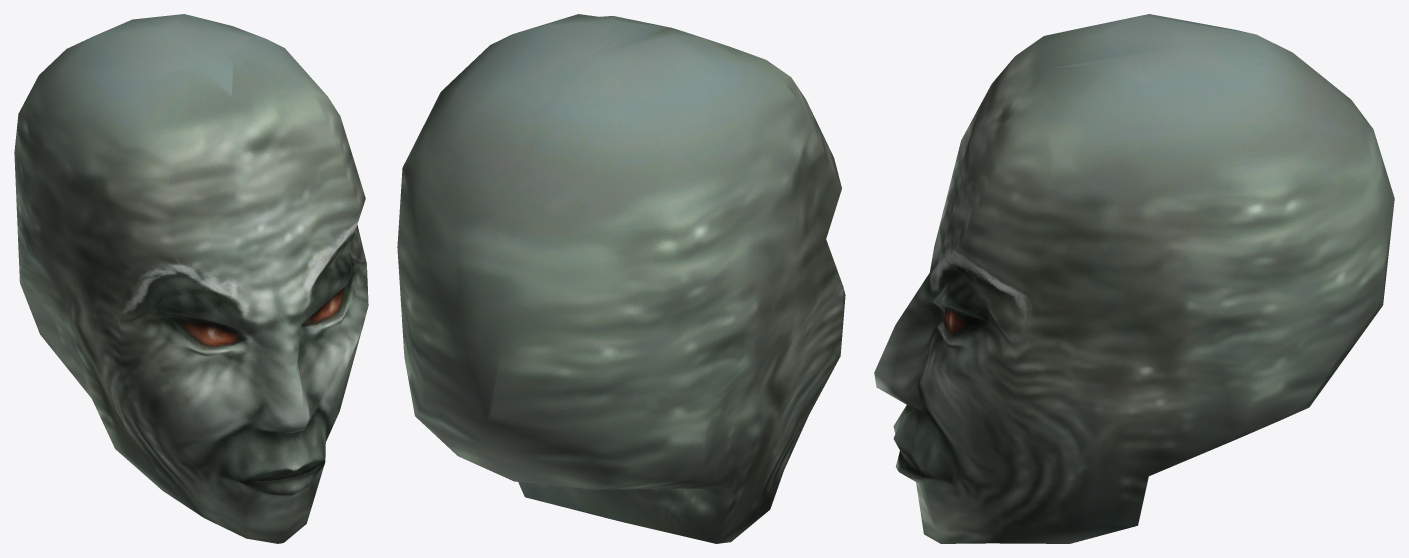
Rendered from b_n_dark elf_f_head_05.glb.
3 renders of one model, left to right at view 1: azimuth 30°, elevation 25°; view 2: azimuth 150°, elevation 25°; view 3: azimuth 270°, elevation 25°, orthographic. The views are drawn at different scales.
Parts seen in each view (by area): view 1: Tri B_N_Dark Elf_F_Head_05; view 2: Tri B_N_Dark Elf_F_Head_05; view 3: Tri B_N_Dark Elf_F_Head_05.
Boxes of the visible parts, x1,y1,x2,y2 form: Tri B_N_Dark Elf_F_Head_05: (14,14,368,543); Tri B_N_Dark Elf_F_Head_05: (397,14,845,543); Tri B_N_Dark Elf_F_Head_05: (874,14,1394,543).
Size of the model in its own units: 0.0941 by 0.1498 by 0.1417.
1 material, 1 textured.
